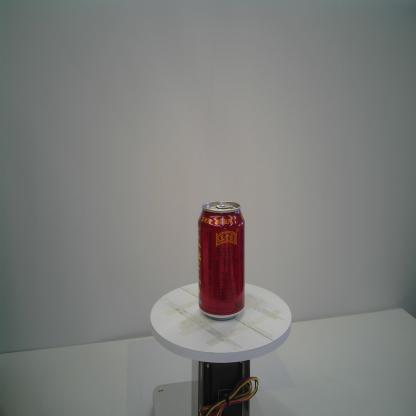Drink: (198, 200, 246, 321)
